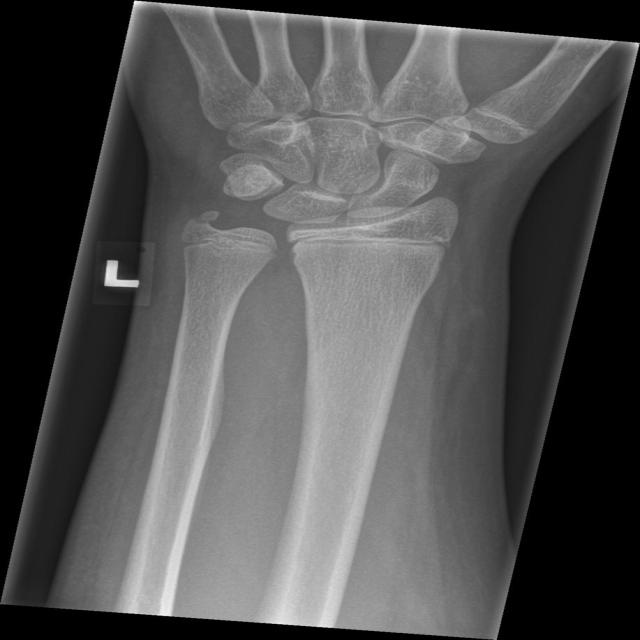fracture: (274, 222, 470, 261), (175, 222, 285, 262)
